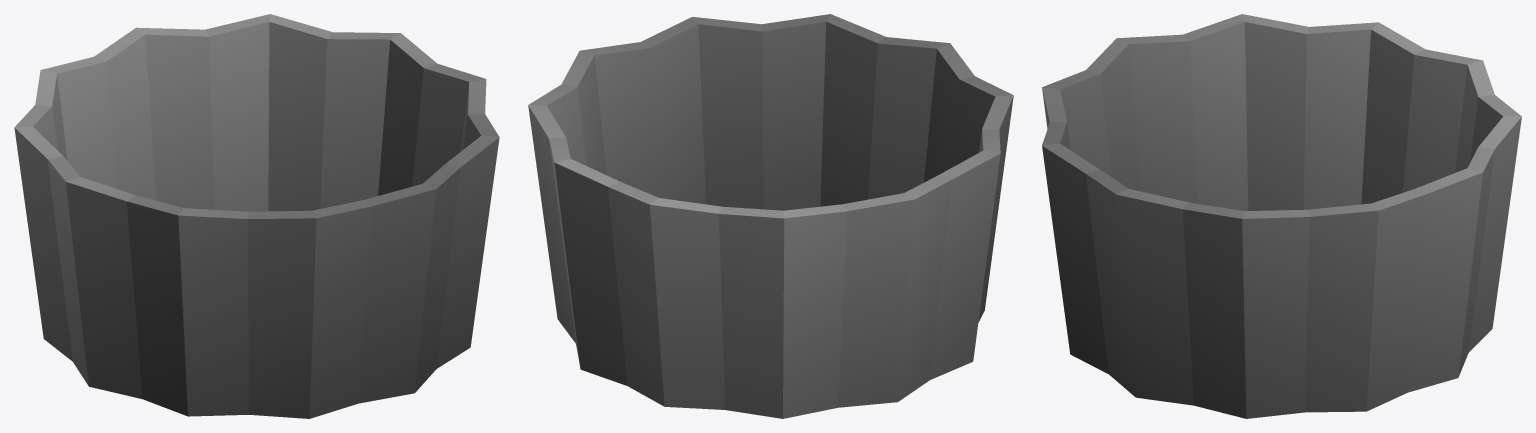
Rendered from Cake Maker_1.glb.
3 renders of one model, left to right at view 1: azimuth 30°, elevation 25°; view 2: azimuth 150°, elevation 25°; view 3: azimuth 270°, elevation 25°, orthographic.
Visible parts, largest first — view 1: Cake Maker_1; view 2: Cake Maker_1; view 3: Cake Maker_1.
Part boxes in pixels (x1,y1,x2,y2): Cake Maker_1: [14, 14, 499, 418]; Cake Maker_1: [528, 14, 1013, 418]; Cake Maker_1: [1042, 14, 1521, 418].
Bounding box in the file's own units: 0.2627 × 0.127 × 0.2601.
Materials: 1 (1 with a texture image).
